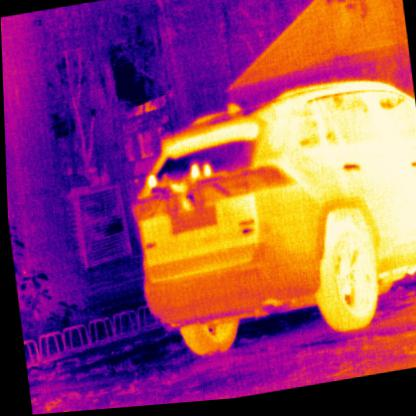drone: (144, 163, 213, 220)
vehicle: (116, 74, 415, 368)
